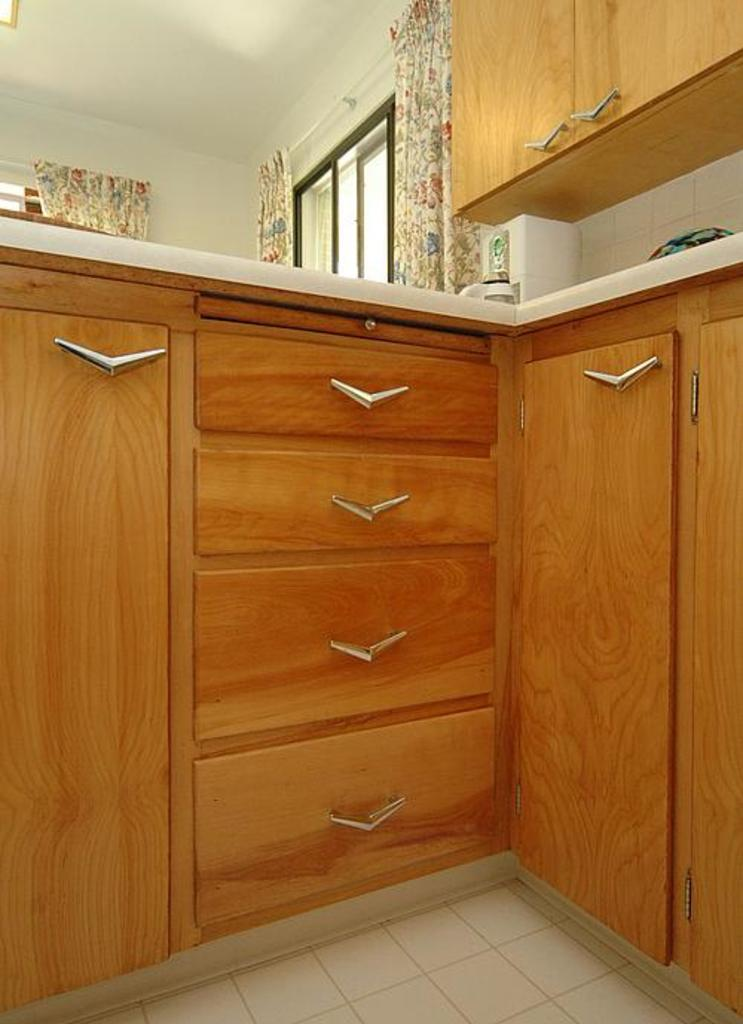cabinet door: (2, 307, 173, 946), (528, 366, 675, 909), (187, 570, 495, 705), (197, 334, 502, 442), (194, 755, 497, 856), (194, 451, 501, 546), (699, 327, 743, 984), (447, 31, 564, 172), (576, 38, 728, 127)
handle: (56, 329, 164, 383), (329, 368, 412, 422), (331, 479, 408, 533), (327, 627, 407, 666), (587, 356, 659, 393), (332, 801, 401, 839), (573, 95, 618, 131), (524, 127, 565, 156)
